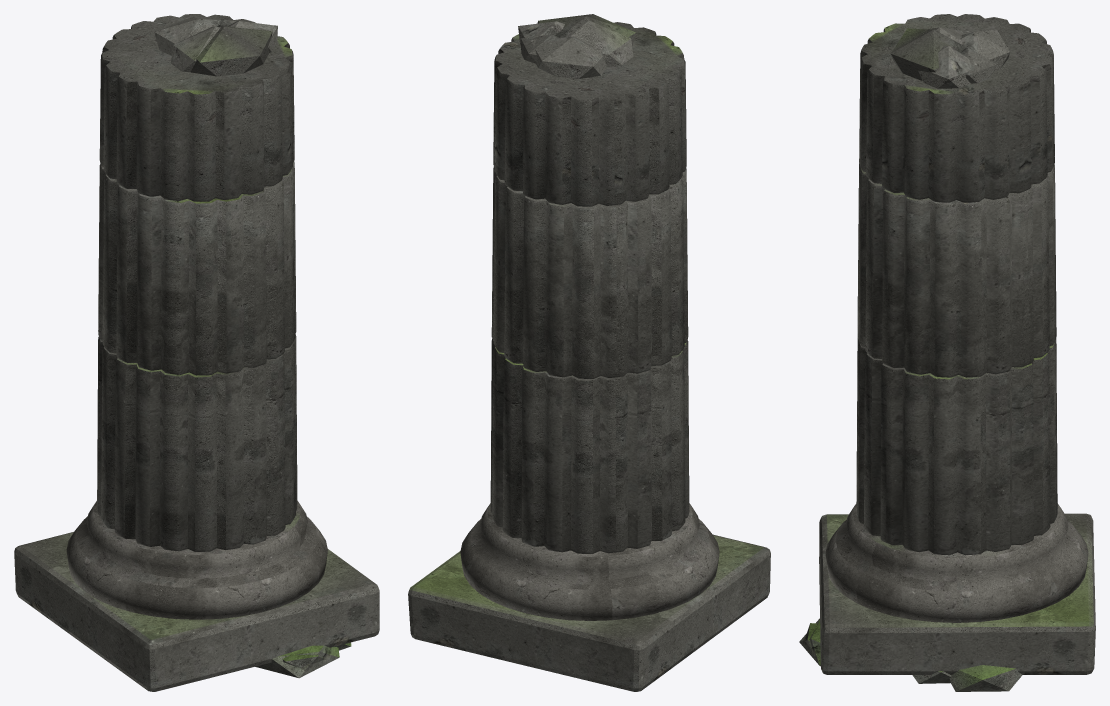
Rendered from ER_Colonne_Cannelee_Brisee_2m6.gltf.
The picture shows the model from 3 angles, left to right: view 1: azimuth 30°, elevation 25°; view 2: azimuth 150°, elevation 25°; view 3: azimuth 270°, elevation 25°; orthographic projection.
Visible parts, largest first — view 1: ER_Colonne_Cannelee_Brisee_2m6_P.001, ER_Colonne_Cannelee_Brisee_2m6_MOUL.001, ER_Colonne_Cannelee_Brisee_2m6_PM.001; view 2: ER_Colonne_Cannelee_Brisee_2m6_P.001, ER_Colonne_Cannelee_Brisee_2m6_MOUL.001; view 3: ER_Colonne_Cannelee_Brisee_2m6_P.001, ER_Colonne_Cannelee_Brisee_2m6_MOUL.001, ER_Colonne_Cannelee_Brisee_2m6_PM.001.
Boxes of the visible parts, <box> form: ER_Colonne_Cannelee_Brisee_2m6_P.001: <box>14,14,379,691</box>; ER_Colonne_Cannelee_Brisee_2m6_MOUL.001: <box>66,500,327,619</box>; ER_Colonne_Cannelee_Brisee_2m6_PM.001: <box>255,642,351,678</box>; ER_Colonne_Cannelee_Brisee_2m6_P.001: <box>408,14,770,691</box>; ER_Colonne_Cannelee_Brisee_2m6_MOUL.001: <box>460,503,719,620</box>; ER_Colonne_Cannelee_Brisee_2m6_P.001: <box>819,14,1095,674</box>; ER_Colonne_Cannelee_Brisee_2m6_MOUL.001: <box>825,503,1088,622</box>; ER_Colonne_Cannelee_Brisee_2m6_PM.001: <box>799,618,1022,691</box>.
Size of the model in its own units: 1.24 by 2.83 by 1.23.
3 materials, 3 textured.
